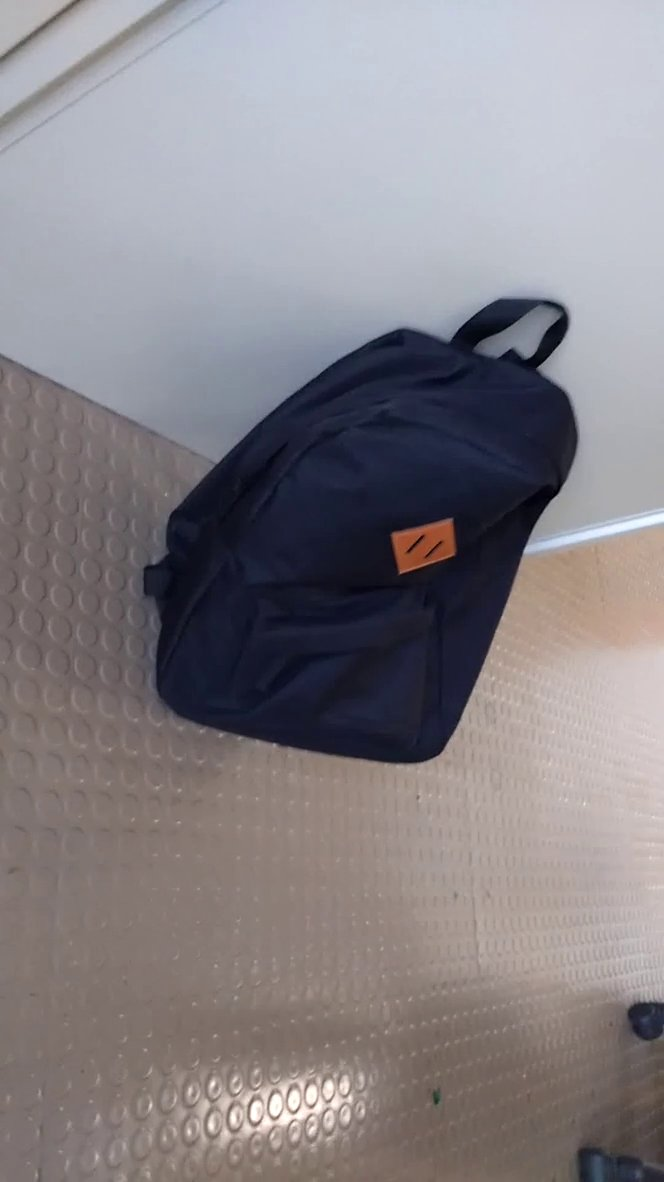bag: (137, 270, 592, 783)
